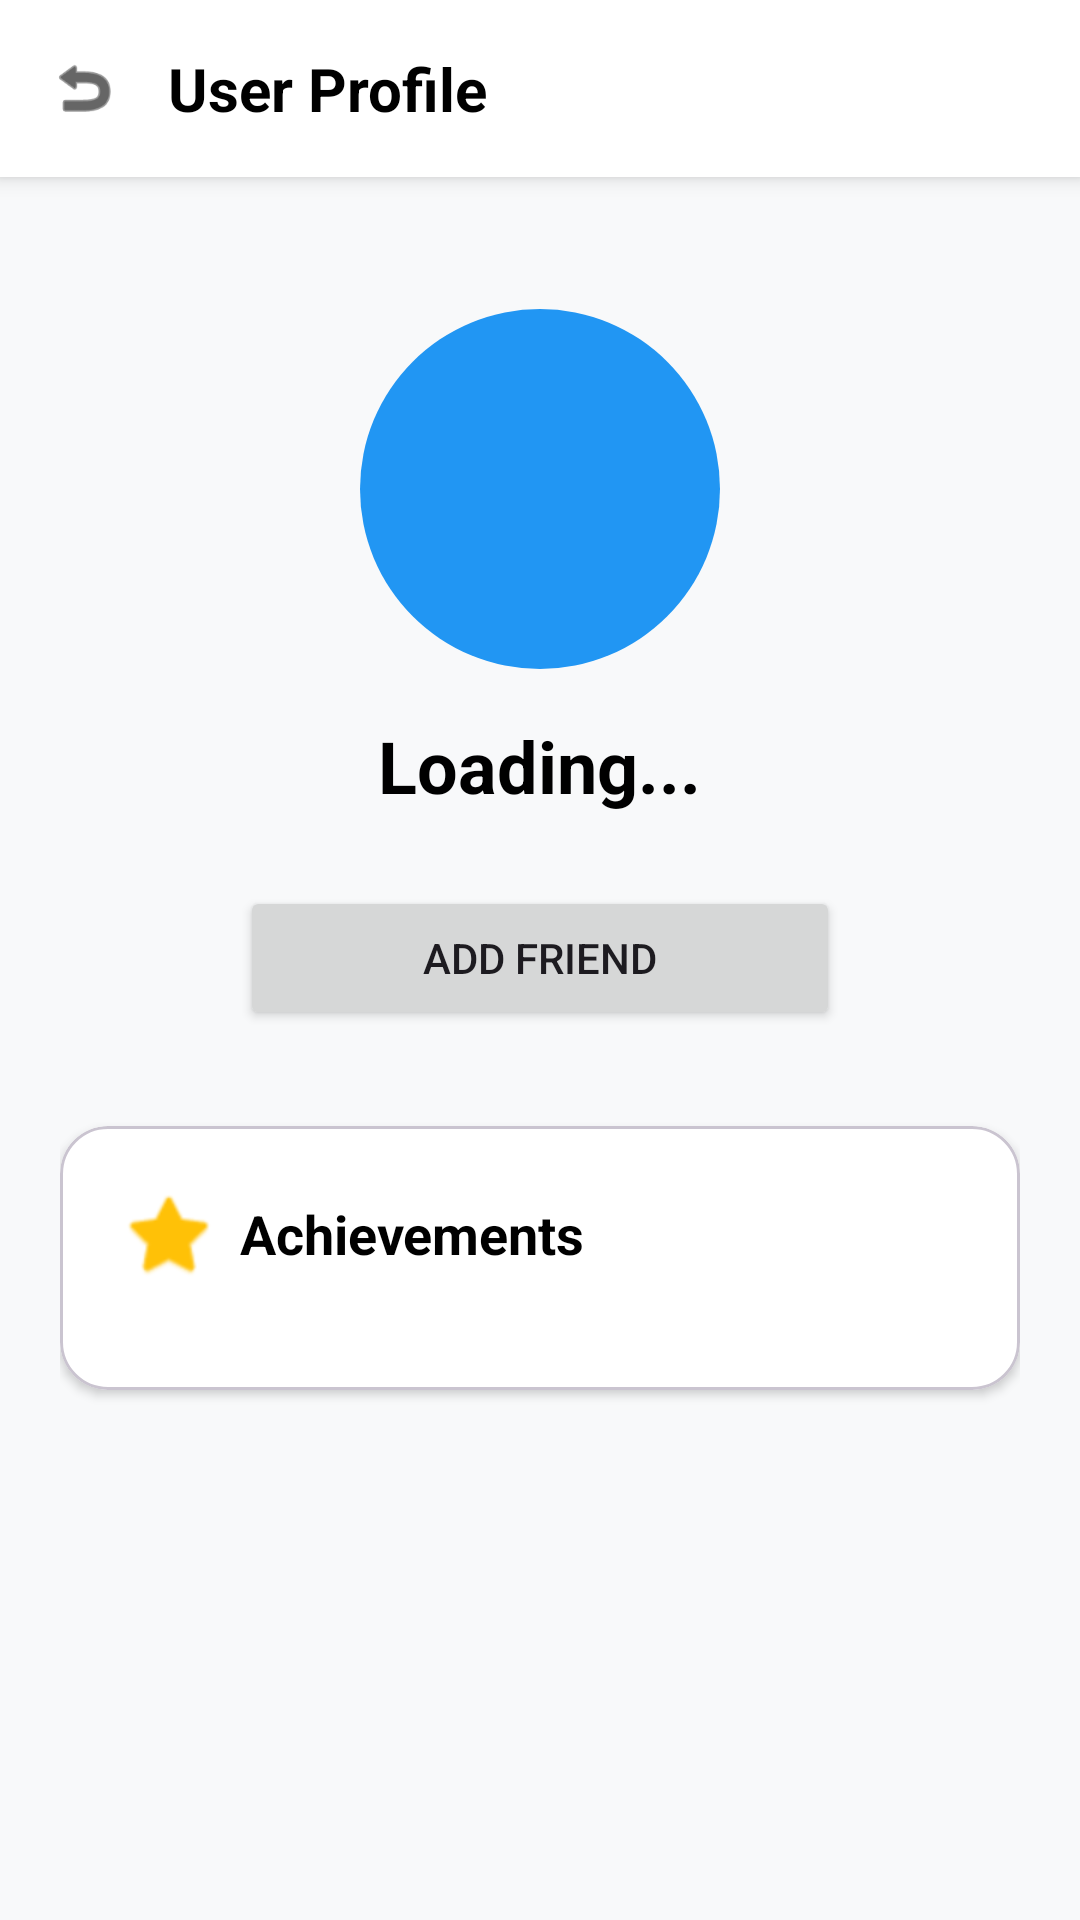

Locate icon controls on the screen. Image size 1080px×1920px, boxes as box(x1, y1, x2, y2).
revert: box(59, 65, 111, 112)
star on: box(129, 1196, 209, 1274)
